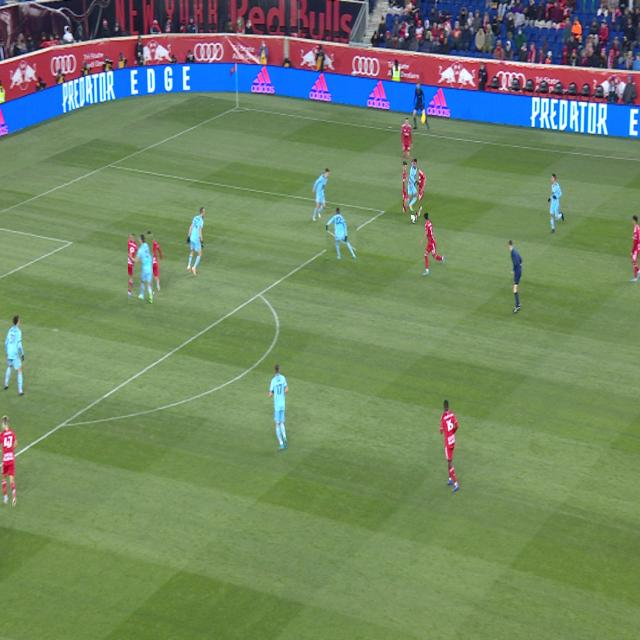football: (411, 215, 416, 222)
player: (440, 400, 459, 492), (269, 364, 289, 450), (4, 315, 25, 395), (0, 415, 18, 507), (129, 235, 153, 304), (326, 208, 356, 259), (421, 213, 445, 276), (143, 231, 162, 298), (187, 207, 205, 276), (411, 162, 427, 223), (312, 167, 330, 221), (548, 174, 564, 234), (403, 160, 419, 212), (630, 216, 640, 282), (401, 118, 413, 166)
referee: (509, 240, 522, 313)
